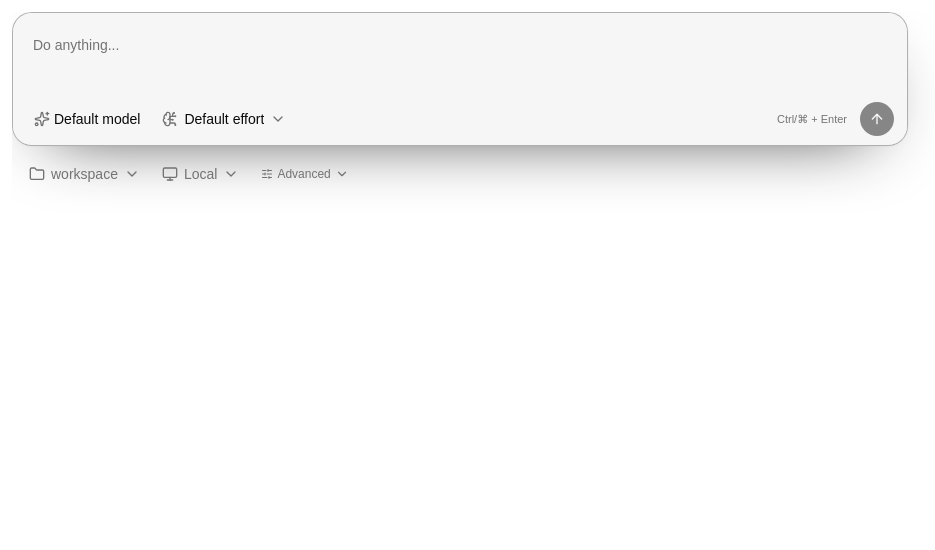
Test: QuickSessionComposer › expands Advanced options in the composer instead of opening a separate form
Expected: the text "Isolated git worktree" is not shown
Click the button with aria-label "Advanced session options": (306, 174) [252,162,360,186]
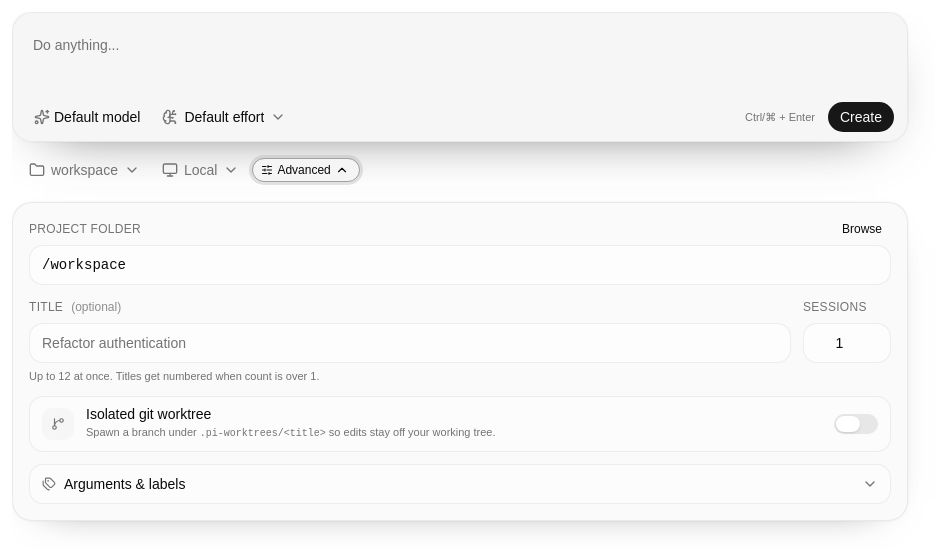
Expected: the checkbox "Isolated git worktree" is shown, [86,406,211,422]
Expected: the text "Title" is shown, [29,300,63,314]
Expected: the text "Arguments & labels" is shown, [42,474,185,494]
